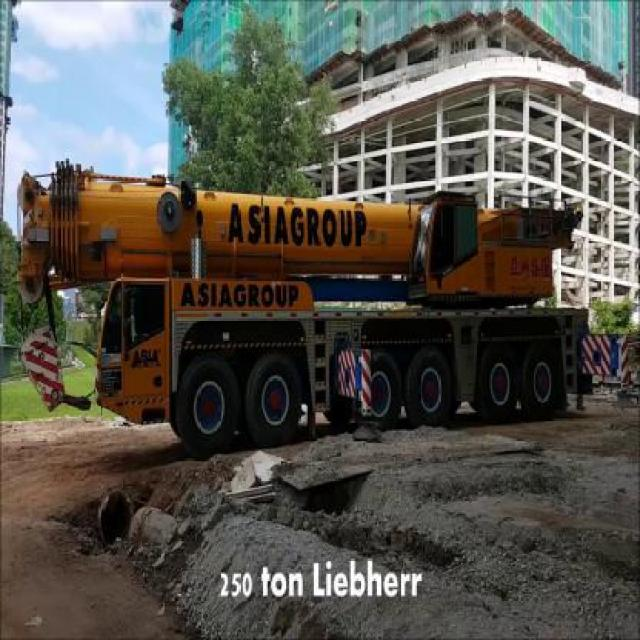Mobile Crane: (19, 160, 623, 442)
